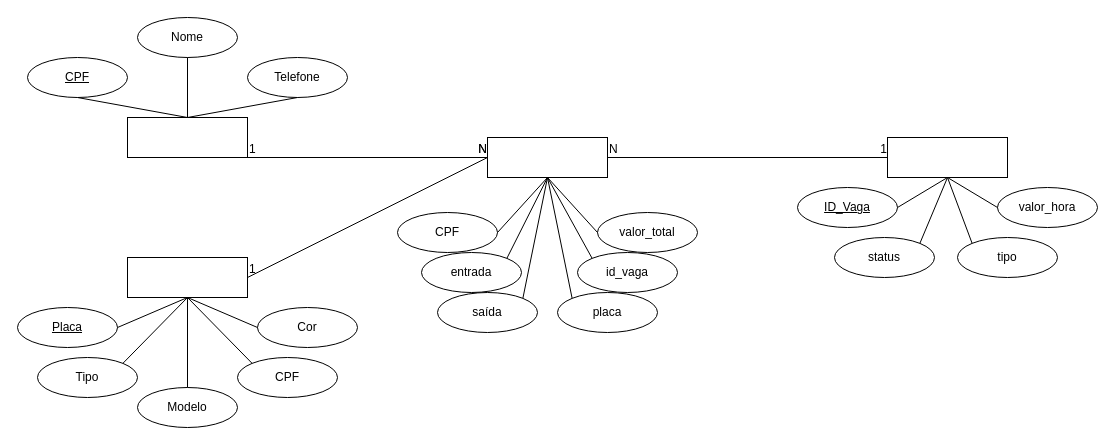
The diagram is 1115 pixels wide and 445 high, and some of its shapes have lost their labels. Here are the shapes that lost their labels. From the top down, the box of each, then its label:
(126, 116, 248, 158): Clientes
(486, 136, 608, 178): Controle
(886, 136, 1008, 178): Vagas
(126, 256, 248, 298): Veículos
